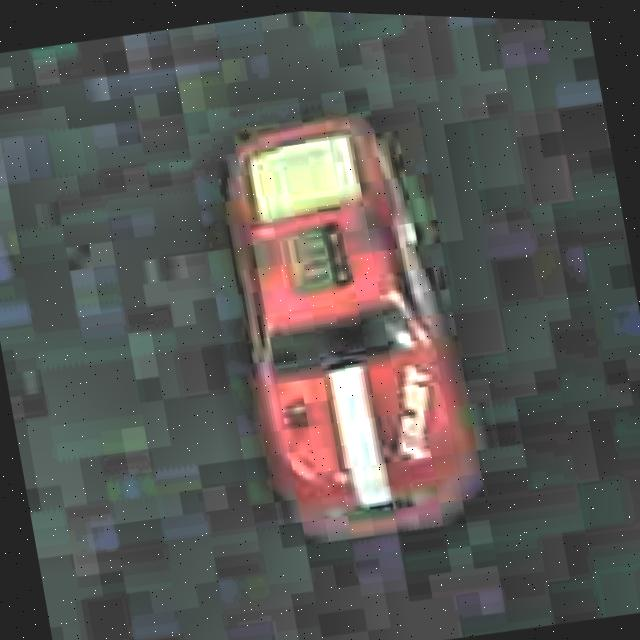car: (188, 80, 504, 571)
